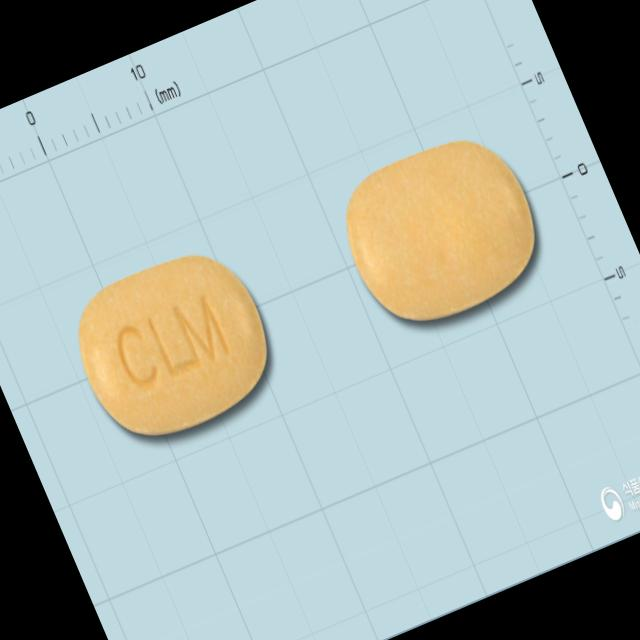Cipurocin: (323, 117, 558, 344), (56, 232, 291, 456)
